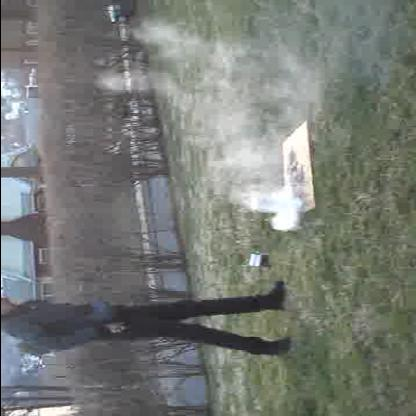Smoke: (214, 51, 296, 230)
